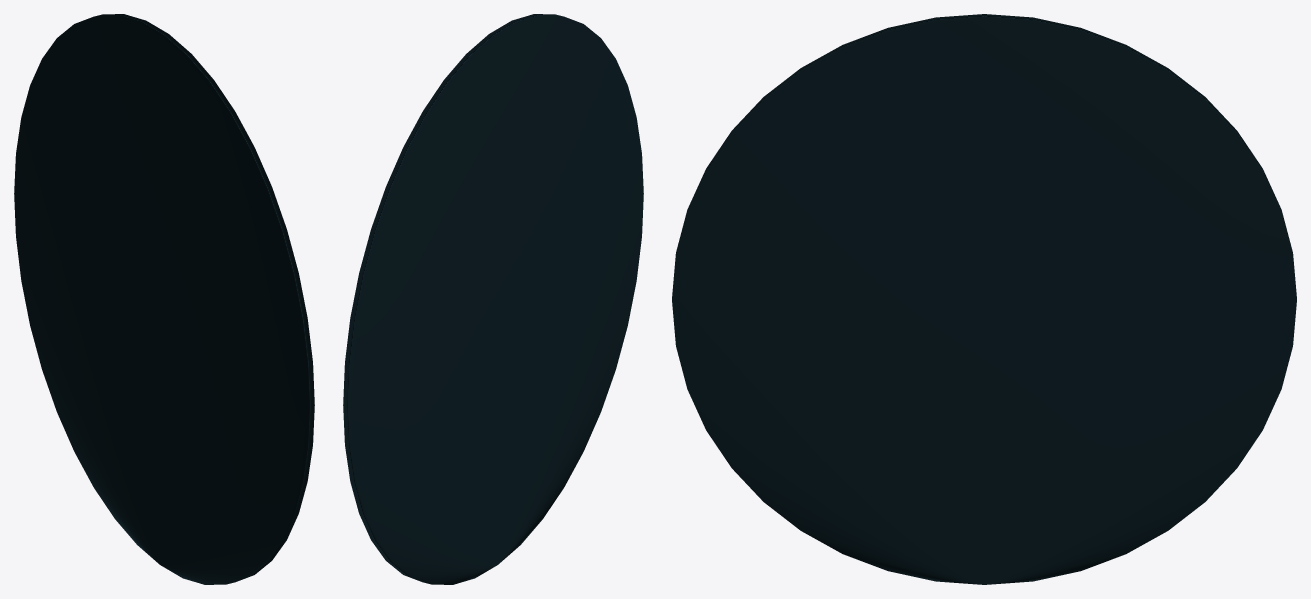
File: camera_lens.obj
The picture shows the model from 3 angles, left to right: view 1: azimuth 30°, elevation 25°; view 2: azimuth 150°, elevation 25°; view 3: azimuth 270°, elevation 25°; orthographic projection. The views are drawn at different scales.
Visible parts, largest first — view 1: camera_lens; view 2: camera_lens; view 3: camera_lens.
Boxes of the visible parts, x1,y1,x2,y2 form: camera_lens: [14, 14, 314, 584]; camera_lens: [343, 14, 643, 584]; camera_lens: [672, 14, 1296, 584].
Size of the model in its own units: 0.0002 by 0.0112 by 0.0112.
